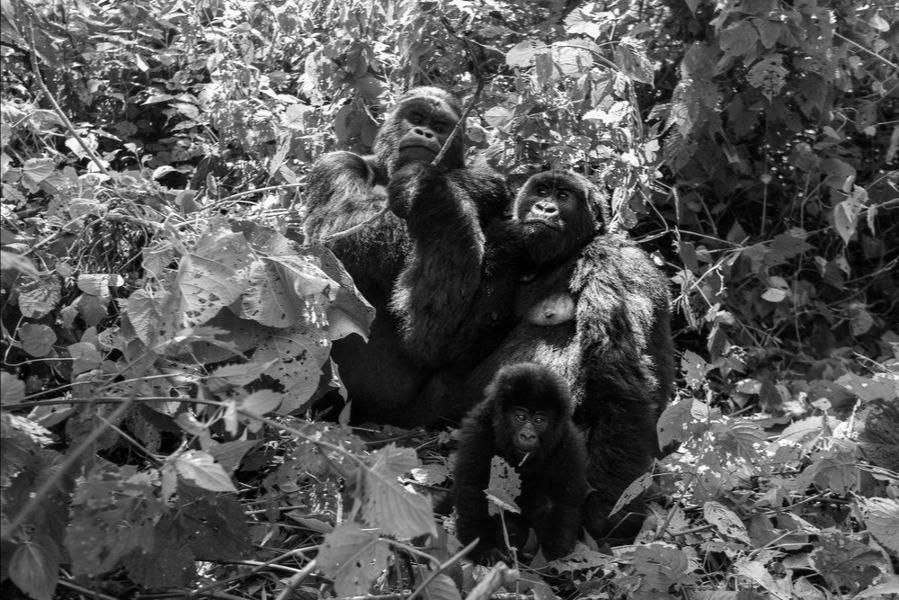goriile_montagne: (284, 60, 485, 444), (480, 140, 675, 438), (443, 360, 639, 552)
